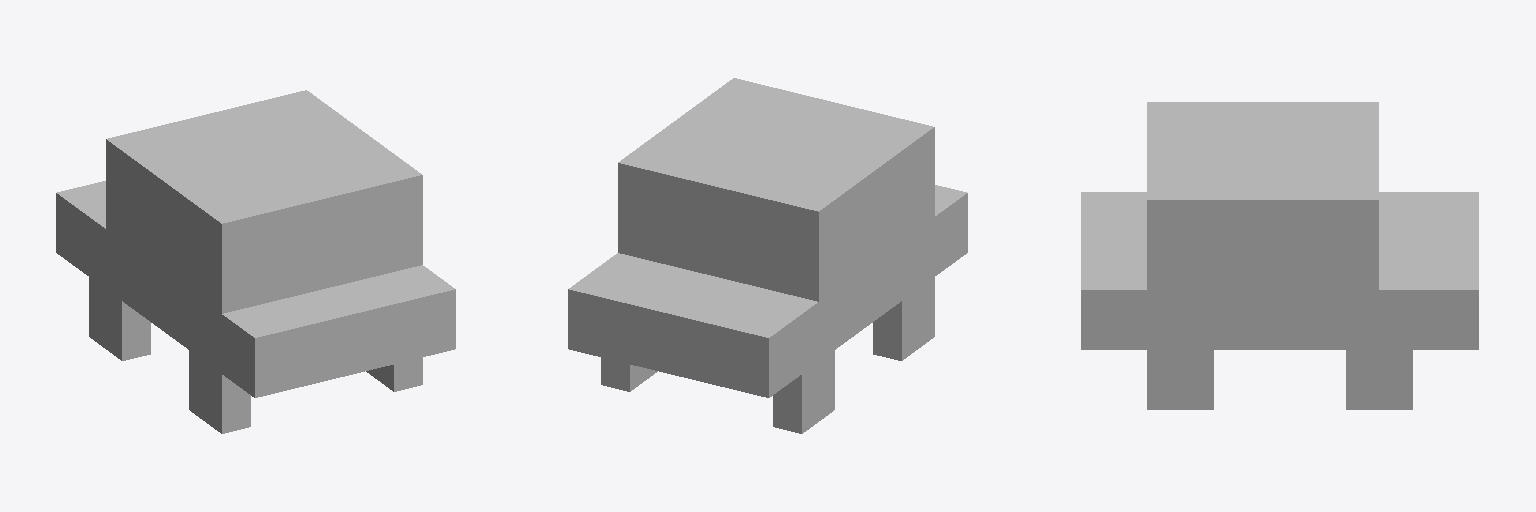
Rendered from BlueCar.obj.
3 views of the same model, side by side, from view 1: azimuth 30°, elevation 25°; view 2: azimuth 150°, elevation 25°; view 3: azimuth 270°, elevation 25° (orthographic).
Bounding box in the file's own units: 7 × 7 × 12.